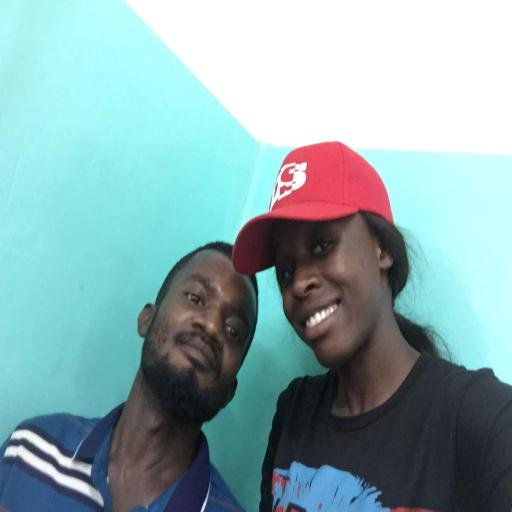MATTHIEU: (137, 228, 261, 425)
